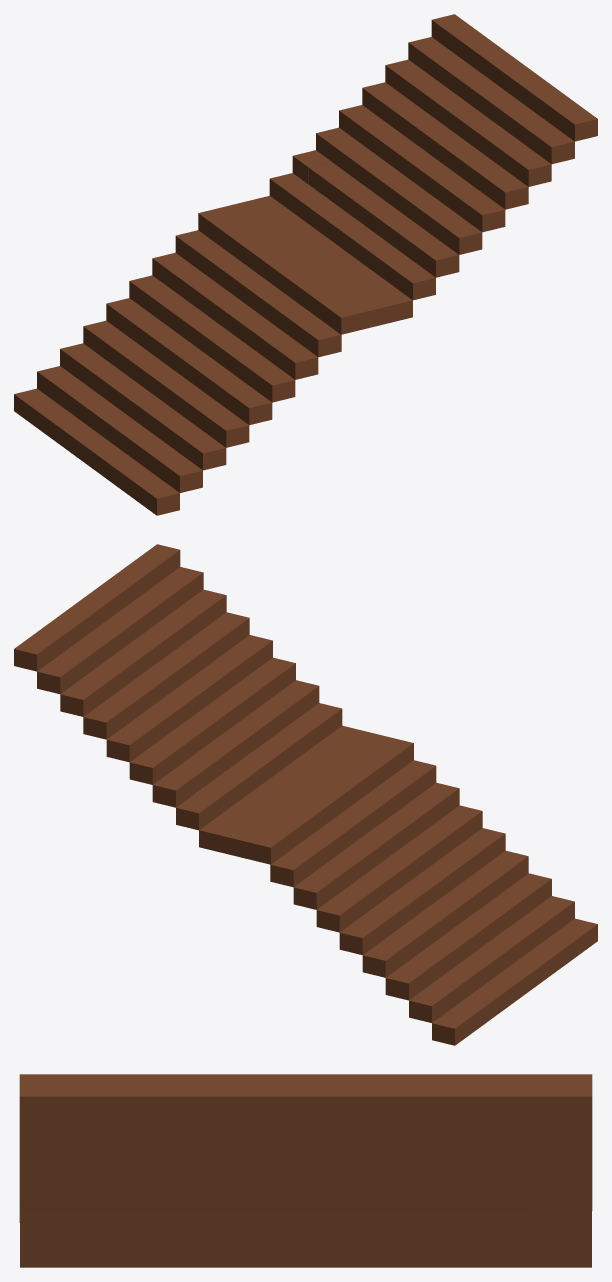
File: Stairs1.fbx
3 renders of one model, top to bottom at view 1: azimuth 30°, elevation 25°; view 2: azimuth 150°, elevation 25°; view 3: azimuth 270°, elevation 25°, orthographic. The views are drawn at different scales.
Parts seen in each view (by area): view 1: Cube.534; view 2: Cube.534; view 3: Cube.534.
Part boxes in pixels (x1,y1,x2,y2): Cube.534: [14, 14, 597, 515]; Cube.534: [14, 544, 597, 1045]; Cube.534: [19, 1074, 592, 1267].
Bounding box in the file's own units: 559 × 351 × 315.
